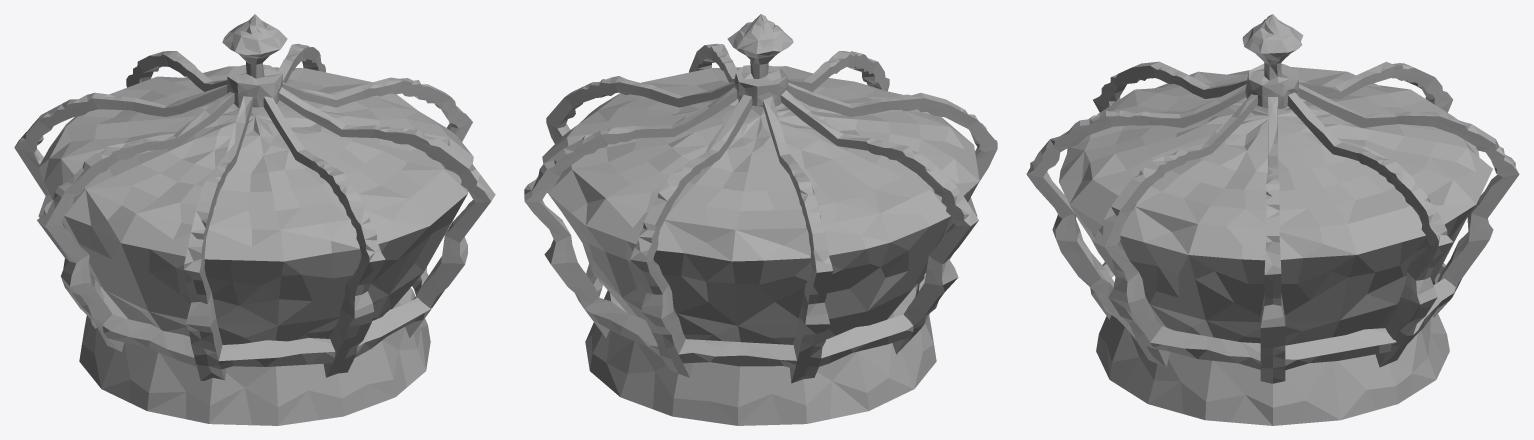
The model's file is king.fbx.
3 renders of one model, left to right at view 1: azimuth 30°, elevation 25°; view 2: azimuth 150°, elevation 25°; view 3: azimuth 270°, elevation 25°, orthographic.
Visible parts, largest first — view 1: King; view 2: King; view 3: King.
Boxes of the visible parts, left/top/right/bottom form: King: left=14, top=14, right=495, bottom=425; King: left=524, top=14, right=997, bottom=425; King: left=1026, top=14, right=1519, bottom=425.
Bounding box in the file's own units: 195 × 147 × 195.
